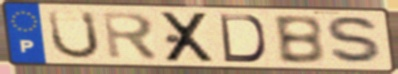B: (270, 14, 329, 66)
D: (217, 13, 269, 64)
R: (99, 10, 162, 63)
S: (323, 14, 388, 67)
U: (46, 9, 103, 61)
X: (159, 11, 218, 64)
